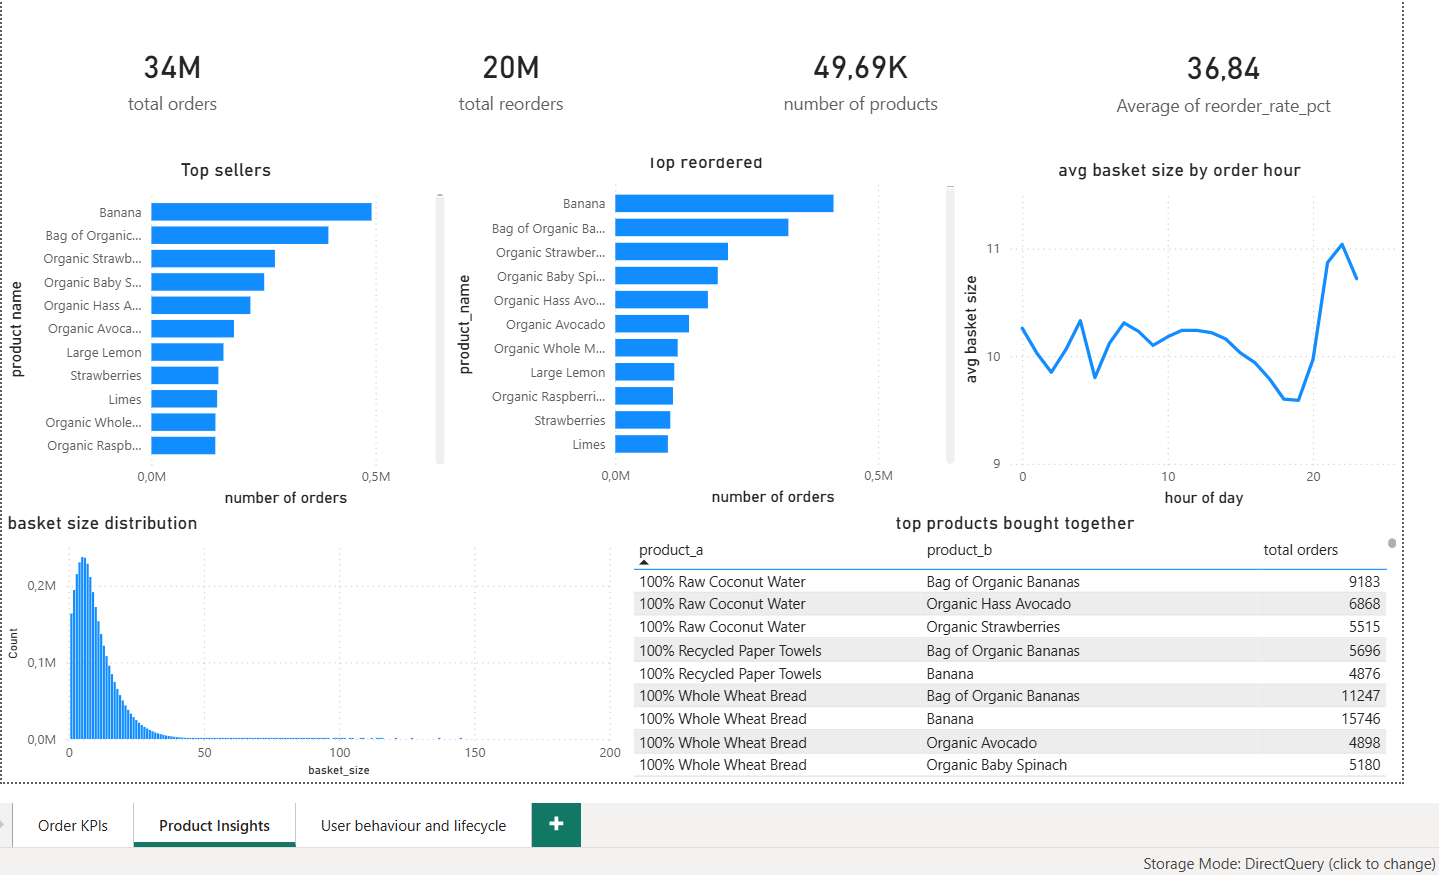

Layout of this report page (visuals, bound fields, positions):
{"tool":"powerbi","page":{"name":"Product Insights","canvas":[1280,720],"ordinal":1},"visuals":[{"type":"clusteredBarChart","title":"Top sellers","fields":{"Category":["instacart v_product_metrics.product_name"],"Y":["Sum(instacart v_product_metrics.order_count)"]},"box":[0,149.2,409.6,322.8],"z":0},{"type":"clusteredBarChart","title":"Top reordered","fields":{"Category":["instacart v_product_metrics.product_name"],"Y":["Sum(instacart v_product_metrics.reorder_count)"]},"box":[409.6,141.8,467.1,330.2],"z":1000},{"type":"tableEx","title":"top products bought together","fields":{"Values":["instacart v_product_pair_cooccurrence.product_a","instacart v_product_pair_cooccurrence.product_b","Sum(instacart v_product_pair_cooccurrence.order_count)"]},"box":[571.1,472,709.2,248.2],"z":2000},{"type":"lineChart","title":"avg basket size by order hour","fields":{"Y":["Sum(instacart v_basket_size_by_hour.avg_basket_size)"],"Category":["instacart v_basket_size_by_hour.order_hour_of_day"]},"box":[873.1,149.2,407.2,322.8],"z":3000},{"type":"clusteredColumnChart","title":"basket size distribution","fields":{"Category":["instacart v_order_basket_sizes.basket_size"],"Y":["CountNonNull(instacart v_order_basket_sizes.basket_size)"]},"box":[0,472,571.1,248.2],"z":4000},{"type":"card","fields":{"Values":["Sum(instacart v_product_metrics.order_count)"]},"box":[0,0,311.8,149.2],"z":5000},{"type":"card","fields":{"Values":["Sum(instacart v_product_metrics.reorder_count)"]},"box":[311.8,0,306.9,149.2],"z":6000},{"type":"card","fields":{"Values":["Count(instacart v_product_metrics.product_id)"]},"box":[618.8,0,333.8,149.2],"z":7000},{"type":"card","fields":{"Values":["Avg(instacart v_product_metrics.reorder_rate_pct)"]},"box":[952.6,3.7,327.7,145.5],"z":8000}]}

Visuals, with their boxes on the page's 1280x720 design canvas (x1, y1, x2, y2). These are canvas units, not pixel positions in the 1439x875 screenshot, which may show the page scaled, cropped or inside an application window:
"Top sellers" clusteredBarChart: (0,149,410,472)
"Top reordered" clusteredBarChart: (410,142,877,472)
"top products bought together" tableEx: (571,472,1280,720)
"avg basket size by order hour" lineChart: (873,149,1280,472)
"basket size distribution" clusteredColumnChart: (0,472,571,720)
card - Sum(instacart v_product_metrics.order_count): (0,0,312,149)
card - Sum(instacart v_product_metrics.reorder_count): (312,0,619,149)
card - Count(instacart v_product_metrics.product_id): (619,0,953,149)
card - Avg(instacart v_product_metrics.reorder_rate_pct): (953,4,1280,149)
